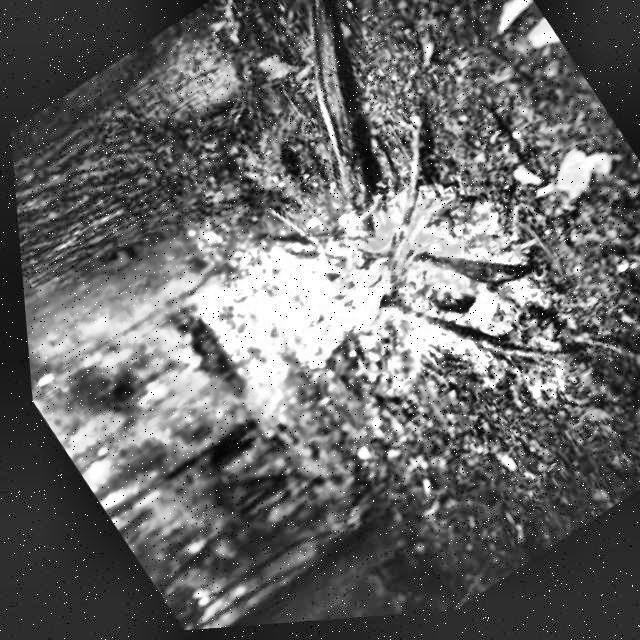Fire: (296, 170, 500, 356)
